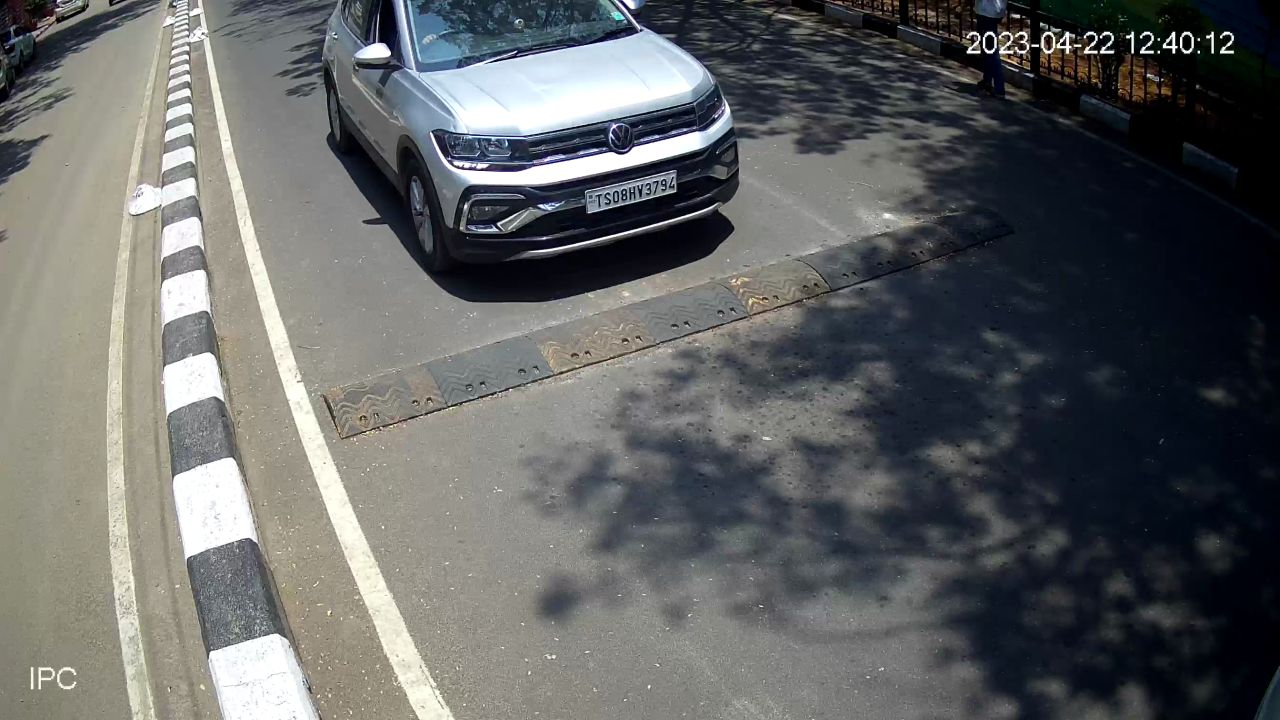license_plate: (581, 166, 684, 220)
